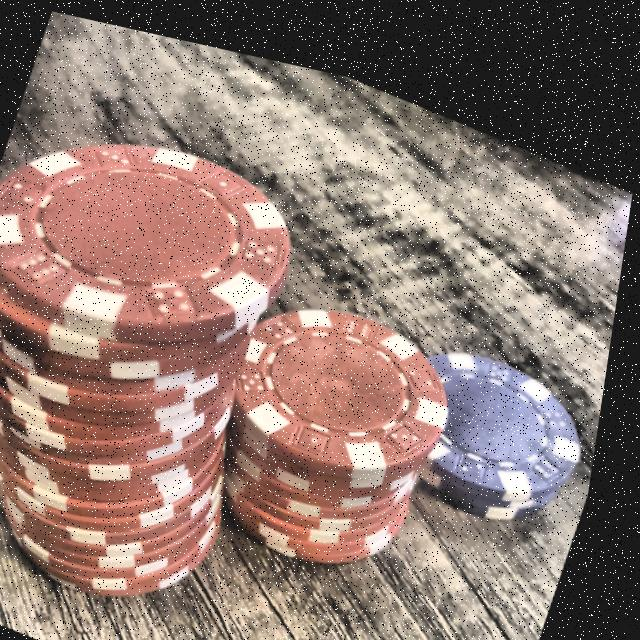Chip: (0, 74, 338, 638), (193, 252, 480, 587), (400, 309, 612, 522)
